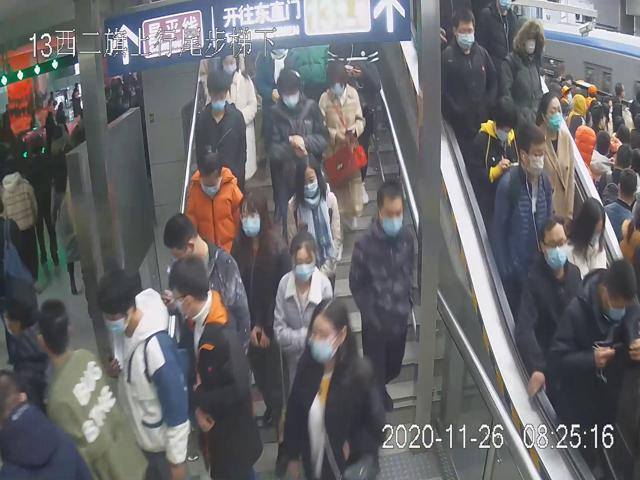person: (276, 298, 382, 477), (346, 178, 421, 415), (234, 186, 293, 420), (511, 214, 584, 402), (492, 119, 551, 298), (272, 226, 331, 398), (317, 59, 369, 236), (283, 147, 344, 291), (262, 67, 325, 193), (192, 63, 248, 204), (440, 6, 496, 142), (183, 144, 245, 250), (535, 90, 575, 237)
